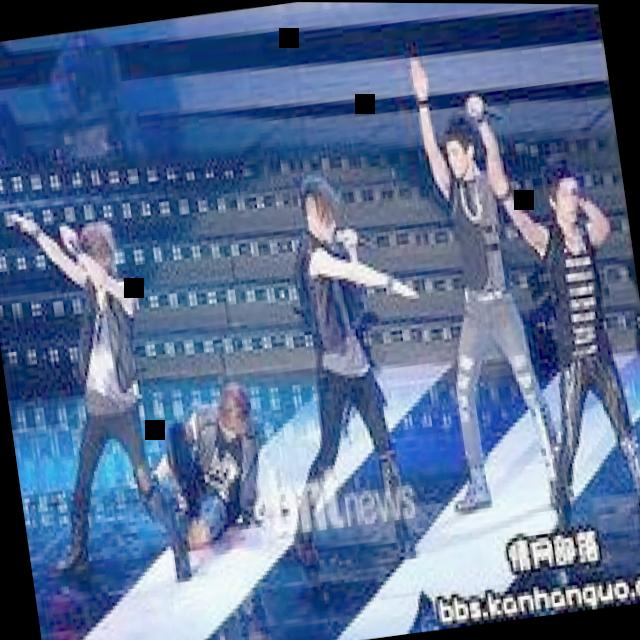Fall-Detected: (108, 363, 286, 571)
